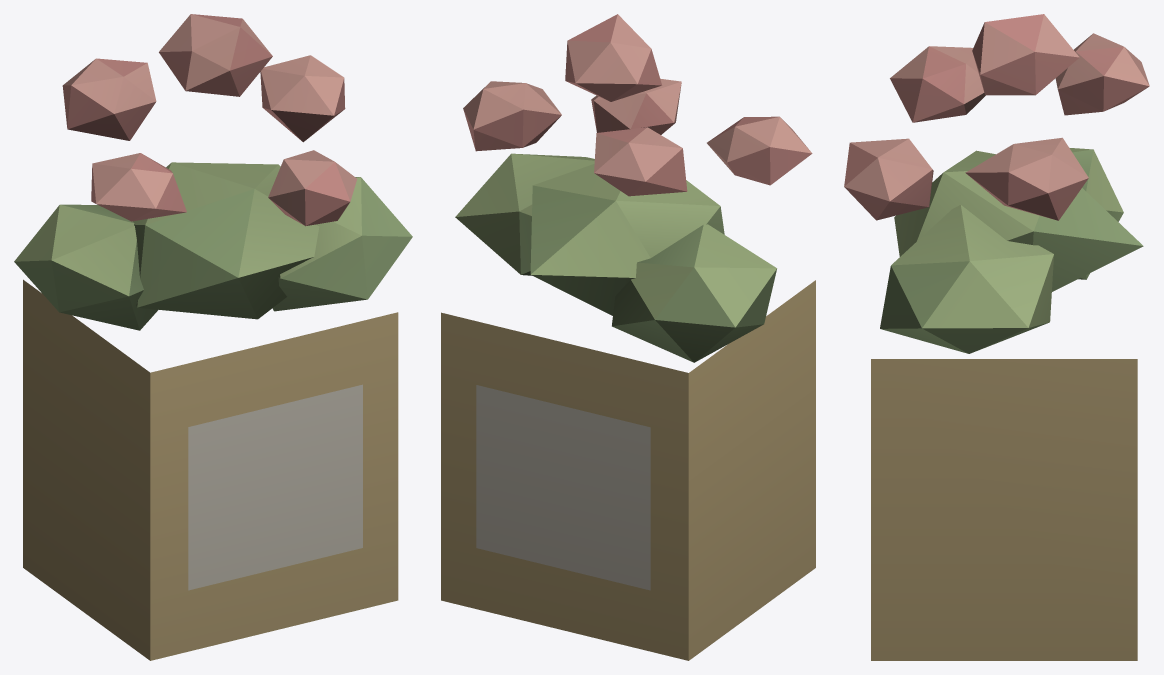
Rendered from geranium.lod2.glb.
3 renders of one model, left to right at view 1: azimuth 30°, elevation 25°; view 2: azimuth 150°, elevation 25°; view 3: azimuth 270°, elevation 25°, orthographic. The views are drawn at different scales.
Bounding box in the file's own units: 0.6903 × 1.16 × 0.5504.
